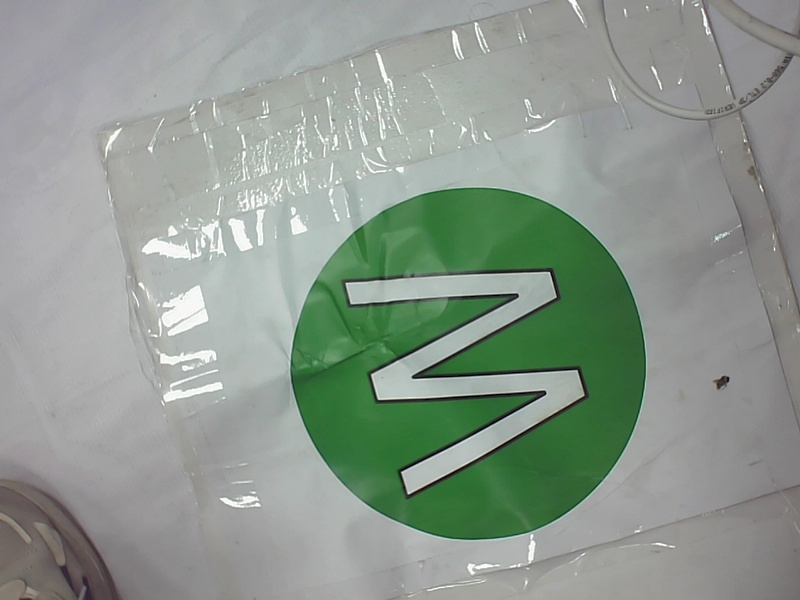areaB: (269, 188, 671, 546)
